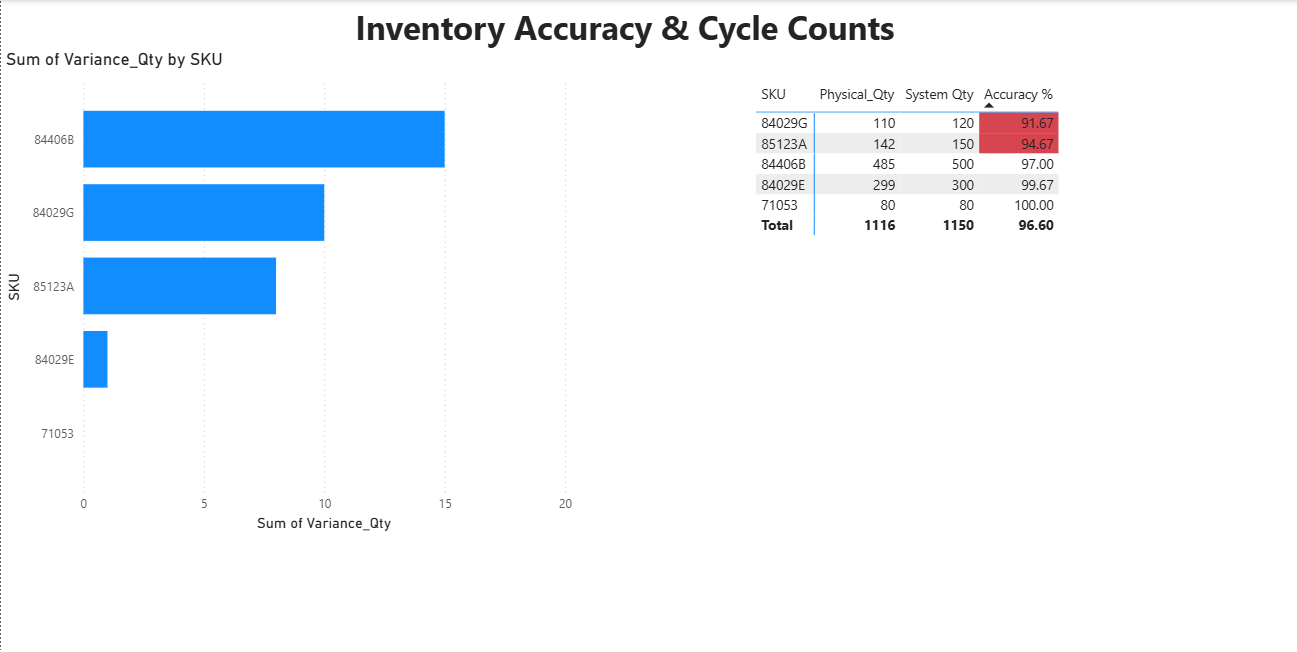

What the dashboard file says about the page in this screenshot:
{"tool":"powerbi","page":{"name":"Inventory Health","canvas":[1280,720],"ordinal":1},"visuals":[{"type":"textbox","box":[9.3,0,1201.1,104.1],"z":0},{"type":"clusteredBarChart","fields":{"Category":["supply_chain_project v_supplier_metrics.SKU"],"Y":["Sum(supply_chain_project v_inventory_accuracy.Variance_Qty)"]},"box":[0,48.2,564,477],"z":1000},{"type":"pivotTable","fields":{"Rows":["supply_chain_project v_supplier_metrics.SKU"],"Values":["Sum(supply_chain_project v_inventory_accuracy.Physical_Qty)","Sum(supply_chain_project v_inventory_accuracy.System_Qty)","Avg(supply_chain_project v_inventory_accuracy.Inventory_Record_Accuracy_Pct)"]},"box":[733.4,76.1,517.4,211.3],"z":2000}]}

Visuals, with their boxes on the page's 1280x720 design canvas (x1, y1, x2, y2). These are canvas units, not pixel positions in the 1297x652 screenshot, which may show the page scaled, cropped or inside an application window:
textbox: select_region(9, 0, 1210, 104)
clusteredBarChart - supply_chain_project v_supplier_metrics.SKU x Sum(supply_chain_project v_inventory_accuracy.Variance_Qty): select_region(0, 48, 564, 525)
pivotTable - supply_chain_project v_supplier_metrics.SKU x Sum(supply_chain_project v_inventory_accuracy.Physical_Qty): select_region(733, 76, 1251, 287)
